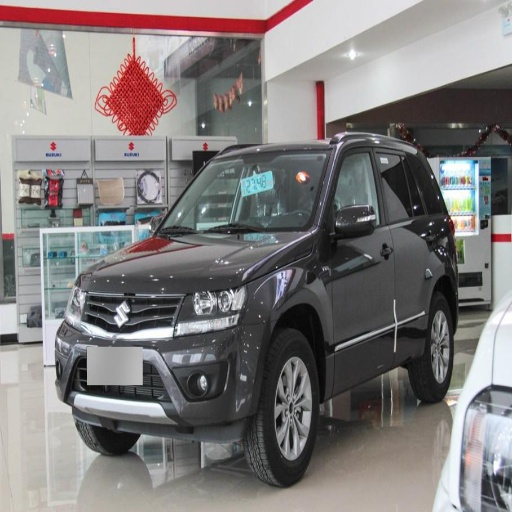front_bumper: (52, 281, 267, 433)
front_glass: (156, 152, 328, 236)
front_left_door: (327, 142, 396, 387)
